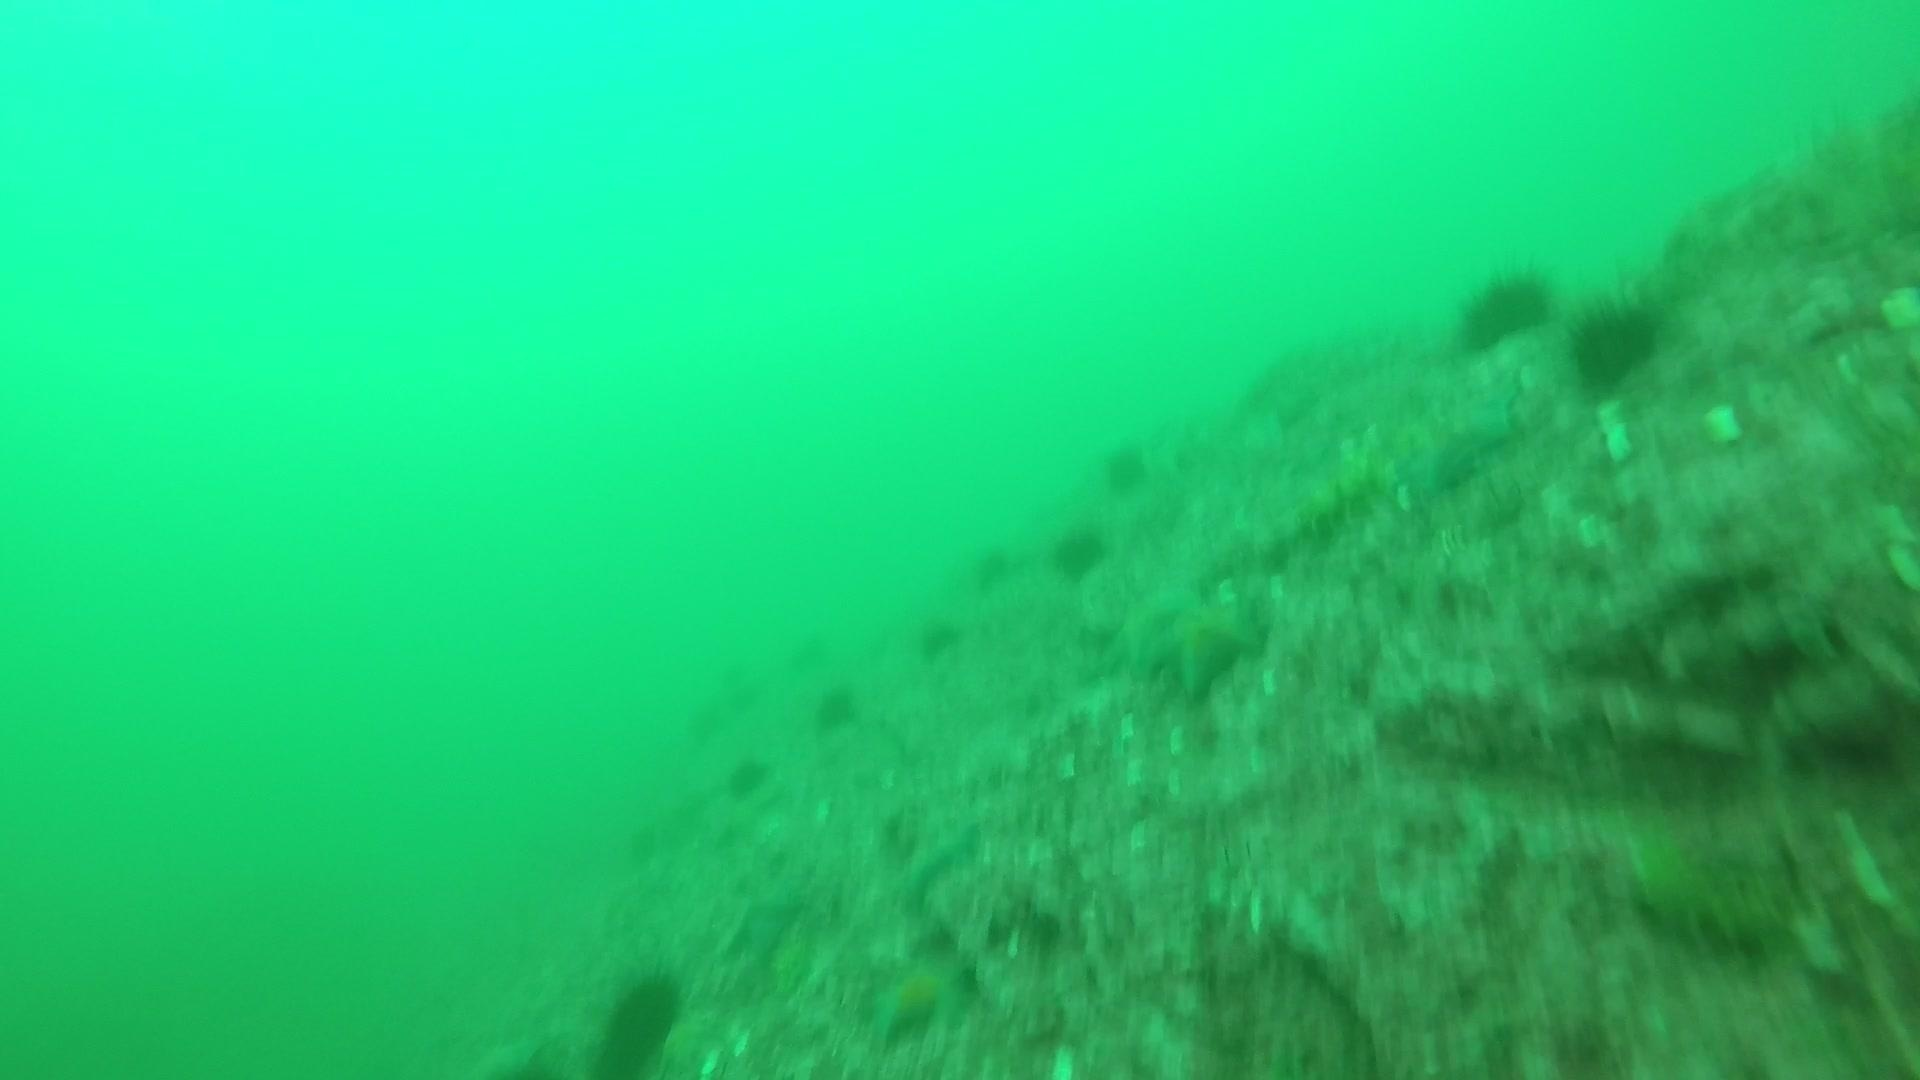echinus: (1564, 291, 1668, 396), (589, 967, 690, 1073), (1451, 262, 1556, 356), (1046, 521, 1110, 583), (1095, 438, 1153, 496), (810, 680, 862, 735), (913, 611, 965, 663), (965, 539, 1015, 593), (721, 752, 773, 802)
holothurian: (1622, 837, 1809, 949), (1270, 464, 1393, 545)
starfish: (1378, 381, 1522, 502), (1134, 583, 1269, 702), (858, 939, 980, 1050), (897, 804, 989, 906), (723, 885, 810, 972)
